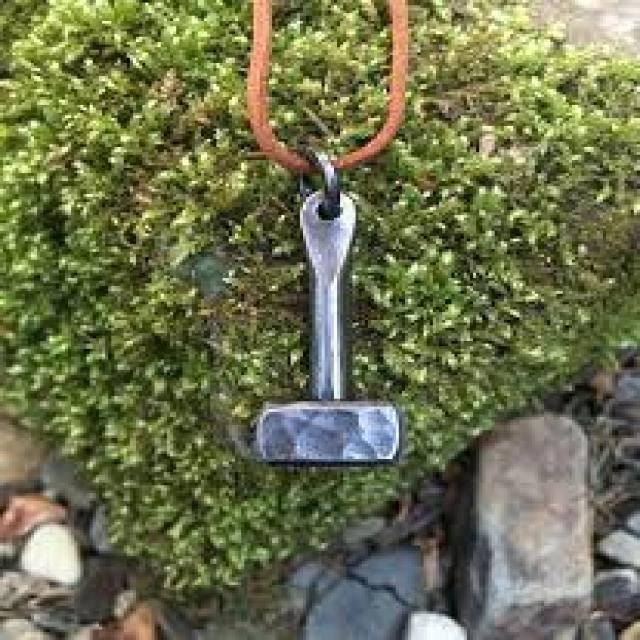hammer: (252, 162, 428, 474)
